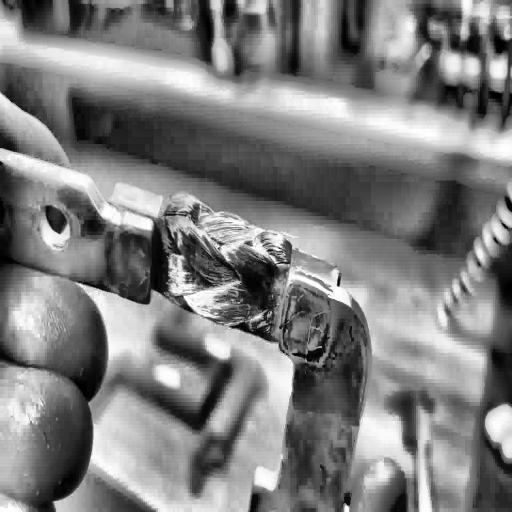busbar: (0, 132, 370, 512)
